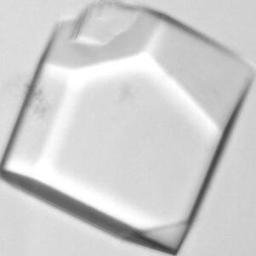crystals: (1, 0, 251, 254)
